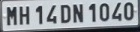character: (6, 6, 16, 26), (19, 5, 29, 25), (72, 3, 82, 23), (111, 1, 121, 21), (123, 1, 133, 21), (46, 5, 56, 24), (60, 4, 70, 23), (99, 3, 109, 21), (88, 2, 96, 22), (35, 5, 42, 25)
